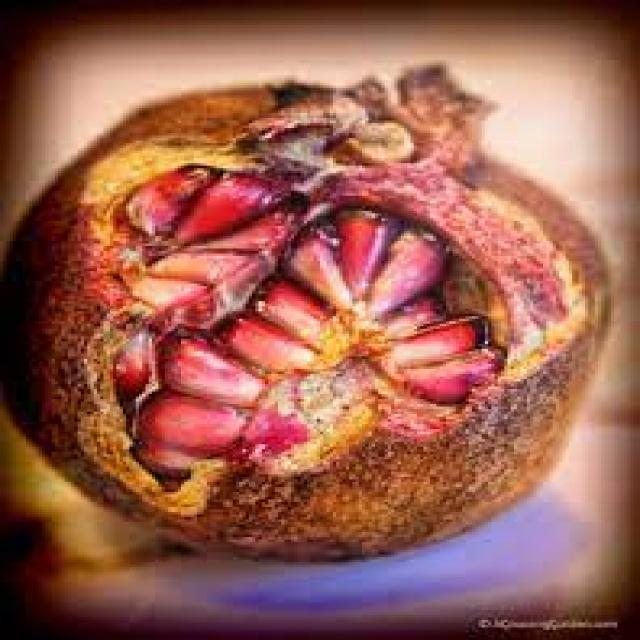overripe: (4, 63, 626, 559)
